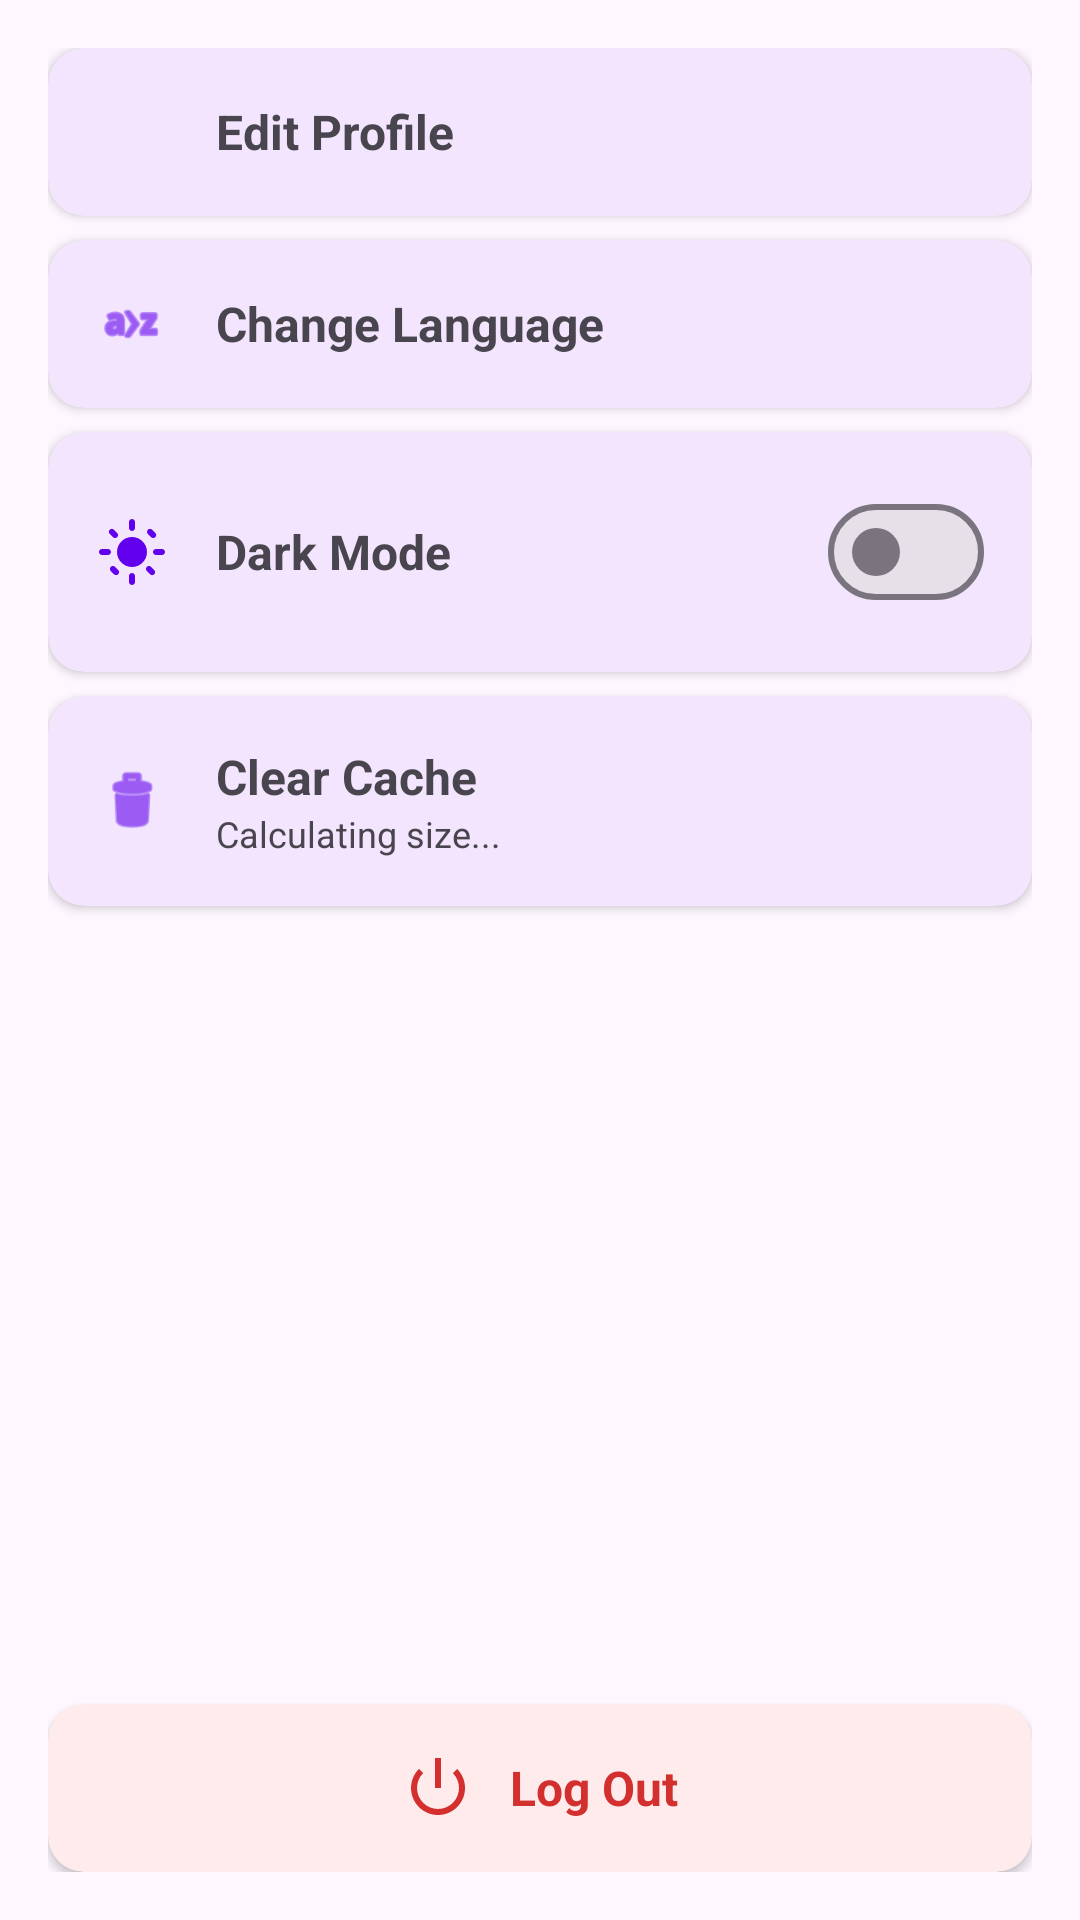

Point at icon controls on the screen. Image size 1080w x 1920h, points as (x,y).
delete: (132,800)
lock power off: (438,1786)
sort alphabetically: (131,324)
sun: (132,552)
